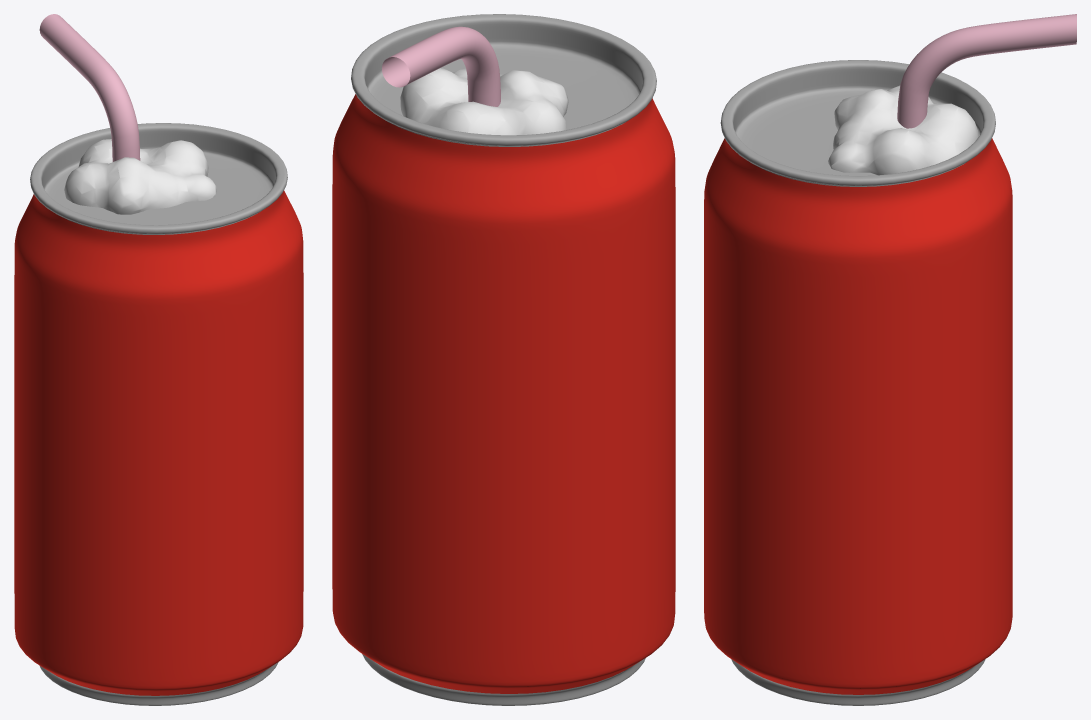
Rendered from LataExplosiva2.fbx.
The picture shows the model from 3 angles, left to right: view 1: azimuth 30°, elevation 25°; view 2: azimuth 150°, elevation 25°; view 3: azimuth 270°, elevation 25°; orthographic projection. The views are drawn at different scales.
Visible parts, largest first — view 1: Cylinder, Mball, Torus; view 2: Cylinder, Mball, Torus; view 3: Cylinder, Mball, Torus.
Part boxes in pixels (x1=…): Cylinder: x1=14, y1=123, x2=303, y2=705; Mball: x1=64, y1=139, x2=216, y2=214; Torus: x1=39, y1=14, x2=140, y2=161; Cylinder: x1=332, y1=14, x2=675, y2=705; Mball: x1=400, y1=68, x2=568, y2=135; Torus: x1=382, y1=26, x2=500, y2=106; Cylinder: x1=704, y1=60, x2=1012, y2=705; Mball: x1=828, y1=85, x2=978, y2=175; Torus: x1=897, y1=14, x2=1076, y2=128.
Size of the model in its own units: 196 by 423 by 227.
